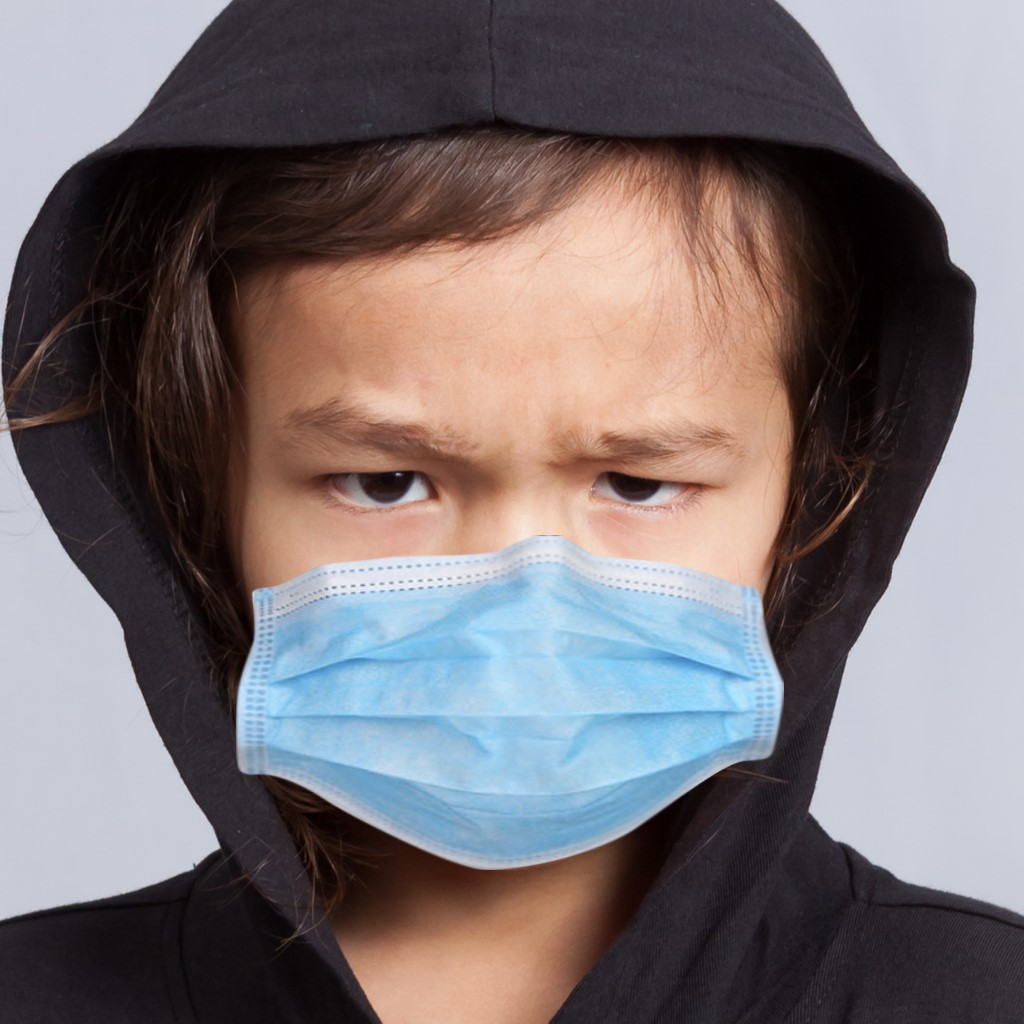con_mascara: (115, 75, 849, 883)
